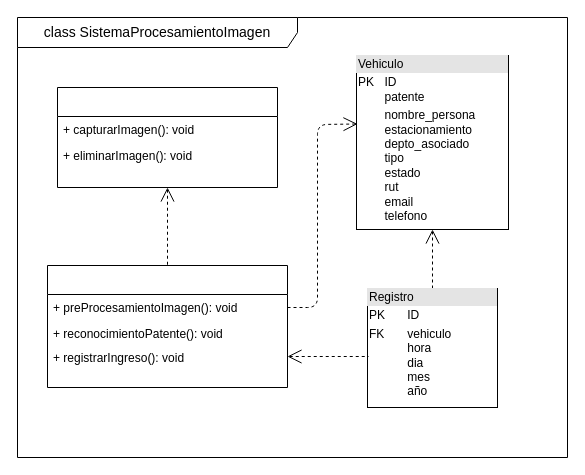
Image size: 585x475. Some labels were removed from this diagram. Here are the shapes that lost their labels. From the top down, the box of each, then its label:
(56, 86, 278, 188): SistemaCapturaImagen
(46, 264, 288, 388): SistemaProcesamientoImagen
